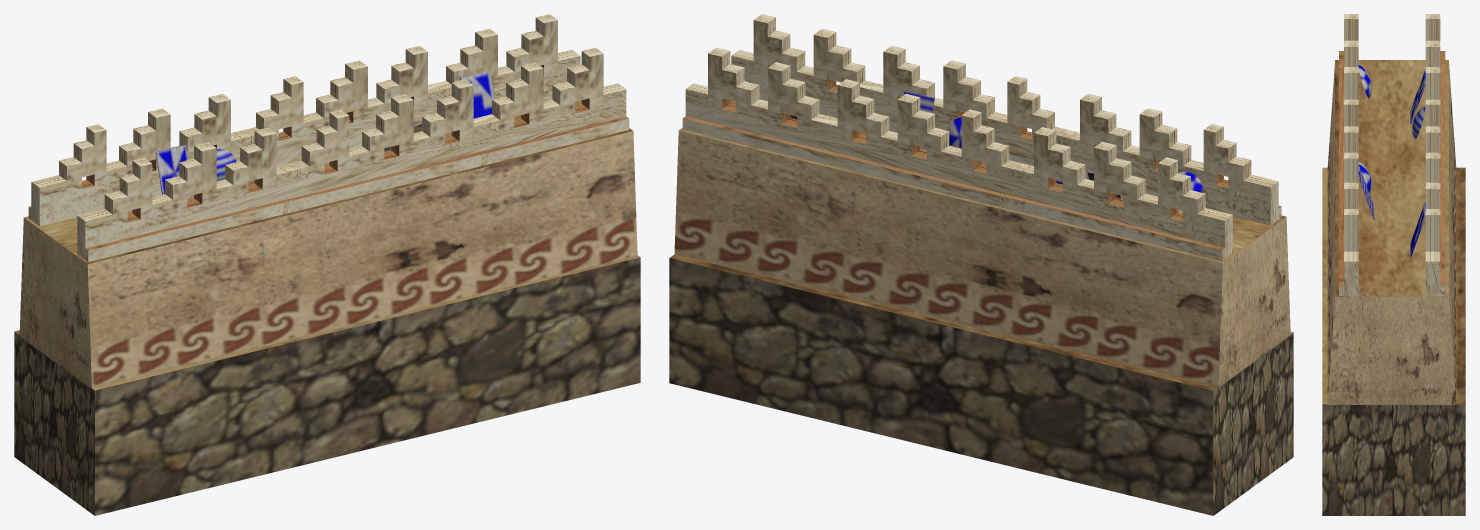
File: wall_long.dae
3 renders of one model, left to right at view 1: azimuth 30°, elevation 25°; view 2: azimuth 150°, elevation 25°; view 3: azimuth 270°, elevation 25°, orthographic. The views are drawn at different scales.
Visible parts, largest first — view 1: wall_long; view 2: wall_long; view 3: wall_long.
Boxes of the visible parts, x1,y1,x2,y2 form: wall_long: [14, 14, 640, 515]; wall_long: [669, 14, 1293, 515]; wall_long: [1322, 14, 1465, 515].
Size of the model in its own units: 26.07 by 6.66 by 14.89.
